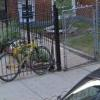Bicycle: (2, 28, 55, 93)
